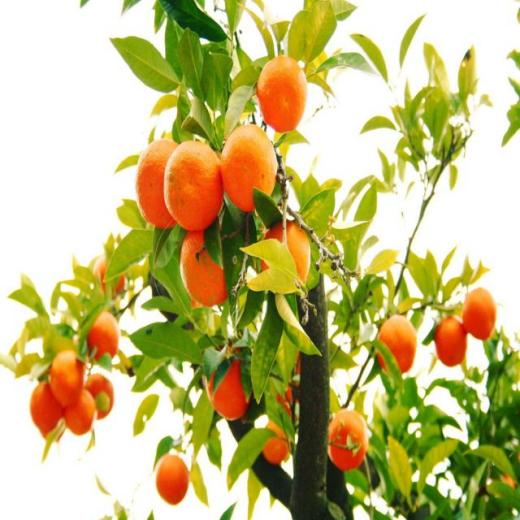Grape: (165, 140, 222, 230), (221, 124, 278, 212), (256, 54, 308, 133), (135, 139, 179, 228), (182, 223, 228, 306), (205, 343, 252, 420), (260, 220, 310, 286), (327, 410, 368, 472), (376, 314, 417, 374), (462, 288, 496, 341), (50, 353, 84, 405), (86, 309, 120, 361), (435, 314, 467, 368), (156, 454, 188, 506), (30, 379, 61, 430), (83, 373, 114, 420), (64, 389, 95, 435), (93, 254, 125, 298), (262, 420, 290, 463), (39, 420, 64, 439)
